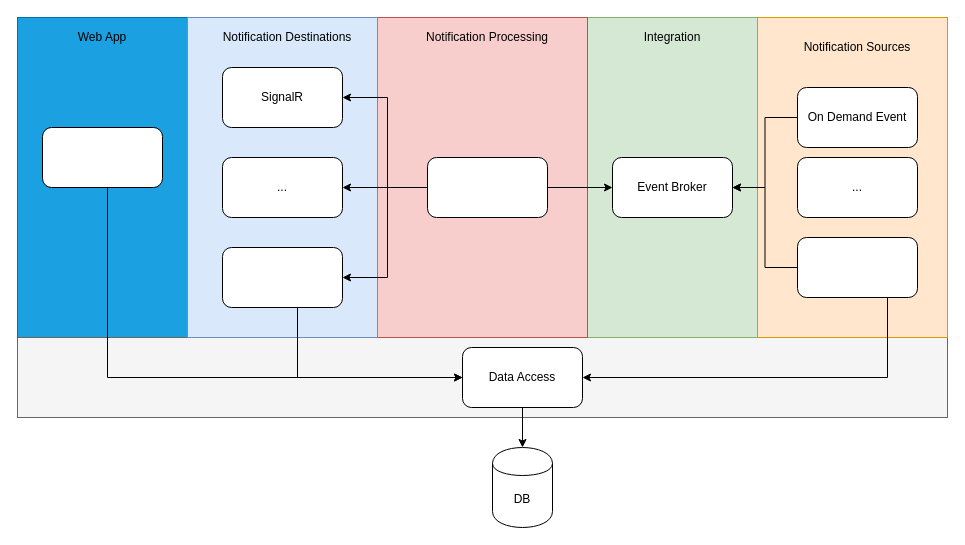
Some shapes in this 965 by 545 pixel diagram are drawn without their labels. The shapes that lost their labels are listed below. From the top down, each one's centre as x and y in pixels, then its label:
the point at 102,157: ASP.MVC
the point at 487,187: Core
the point at 282,277: Persistence
the point at 857,267: Event Generator
